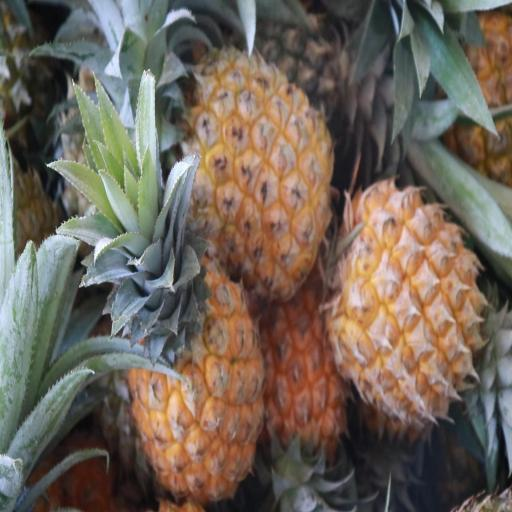Pineapple - v8 v1: (130, 204, 261, 501), (336, 181, 485, 427), (189, 44, 334, 296), (263, 285, 347, 496)
